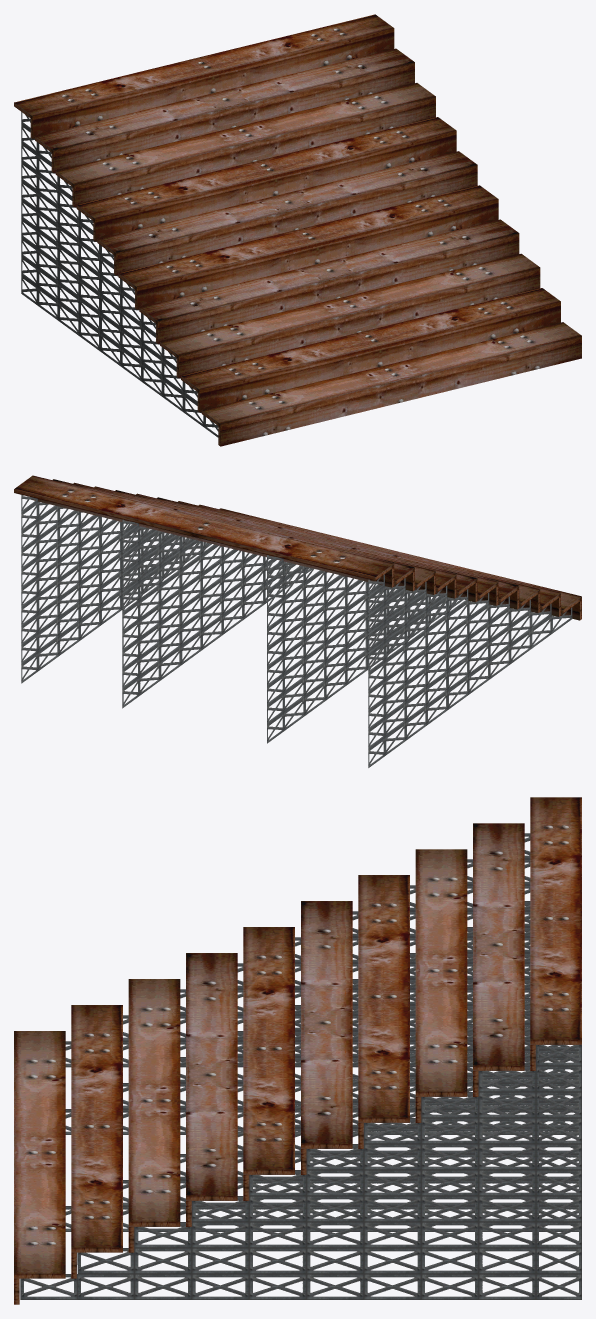
File: bleachers_wood_extended.fbx
3 views of the same model, one above another, from view 1: azimuth 30°, elevation 25°; view 2: azimuth 150°, elevation 25°; view 3: azimuth 270°, elevation 25° (orthographic). The views are drawn at different scales.
Parts seen in each view (by area): view 1: mesh_1, mesh_0; view 2: mesh_0, mesh_1; view 3: mesh_1, mesh_0.
Boxes of the visible parts, left/top/right/bottom form: mesh_1: left=14, top=14, right=581, bottom=446; mesh_0: left=21, top=112, right=218, bottom=437; mesh_0: left=21, top=495, right=572, bottom=767; mesh_1: left=14, top=475, right=581, bottom=620; mesh_1: left=14, top=797, right=581, bottom=1304; mesh_0: left=20, top=833, right=581, bottom=1299.
Bounding box in the file's own units: 1000 × 510 × 990.
Materials: 2 (2 with a texture image).
